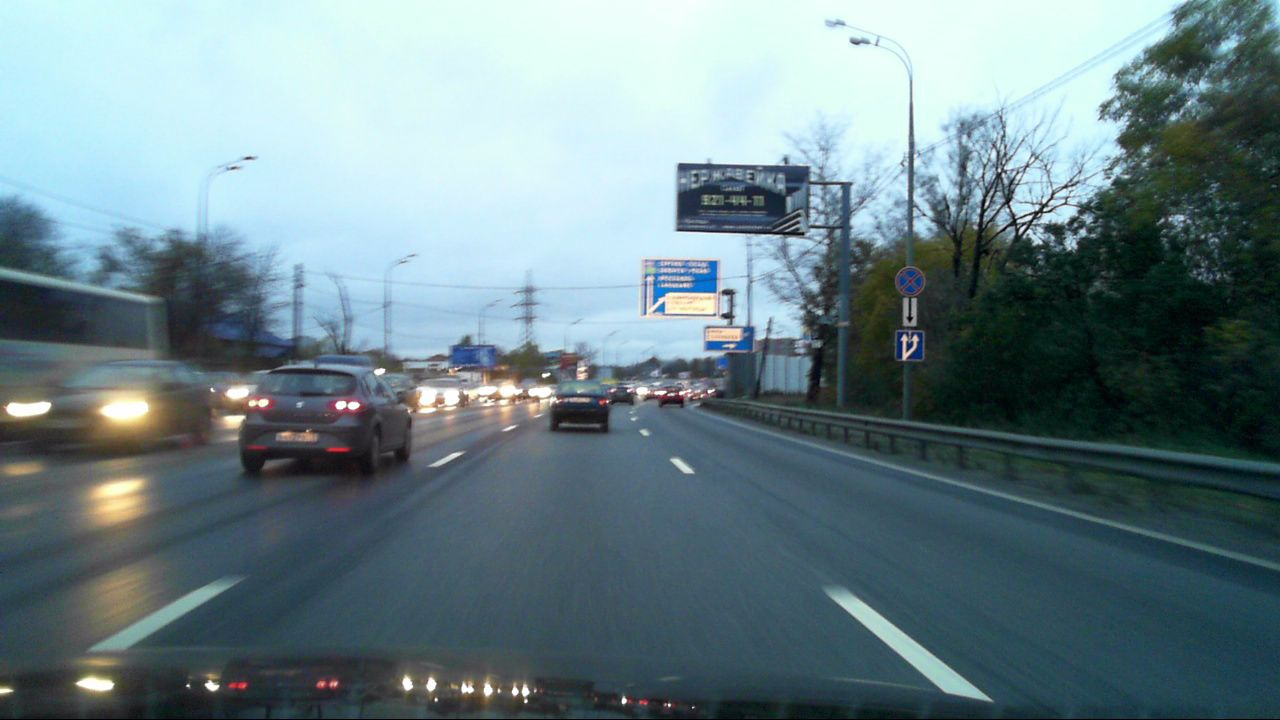No Parking: (894, 265, 925, 296)
